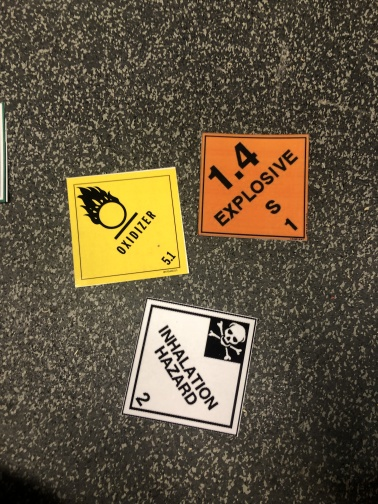Explosive: (197, 132, 311, 240)
InhalationHazard: (123, 297, 257, 435)
Oxidizer: (65, 167, 190, 287)
